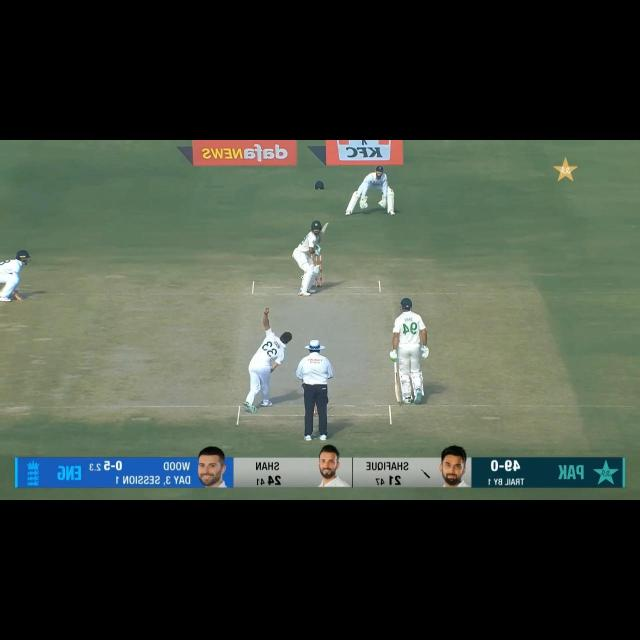bat: (392, 373, 404, 404), (316, 222, 329, 243)
toe: (394, 393, 403, 404), (323, 222, 329, 228)
